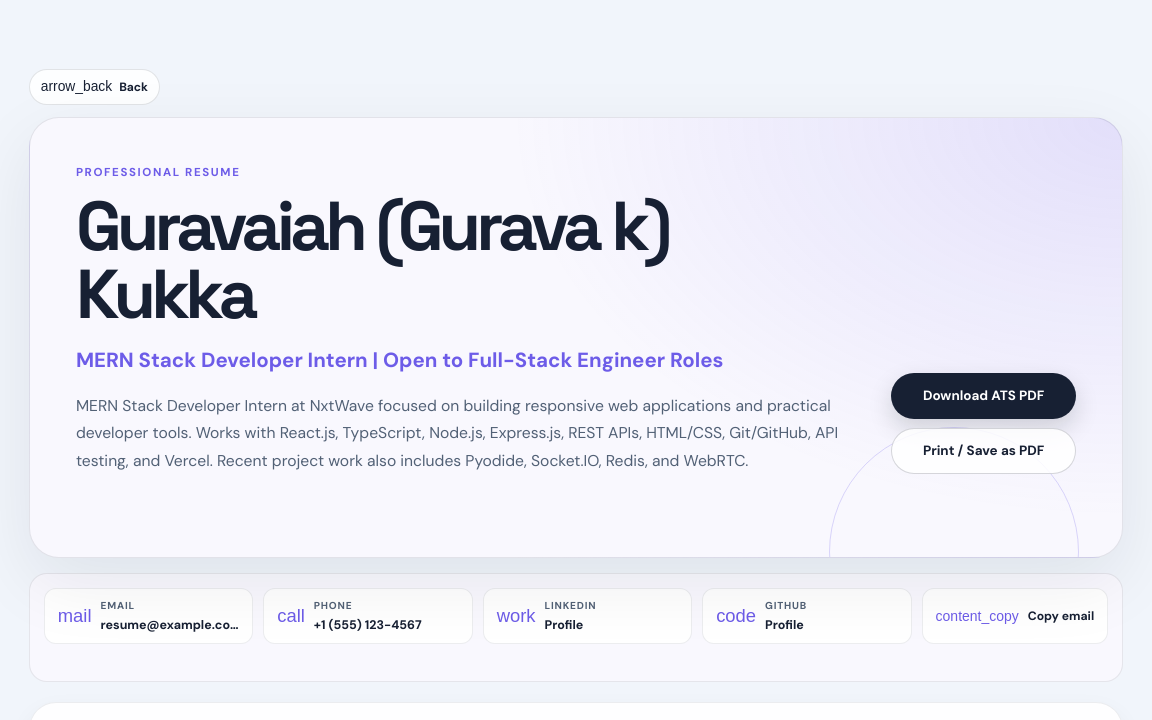
Test: ResumePage › offers a direct PDF download and hands it the same profile and certificate data
The image size is (1152, 720).
Click the button "Download ATS PDF" at (984, 396), box [891,373,1076,419]
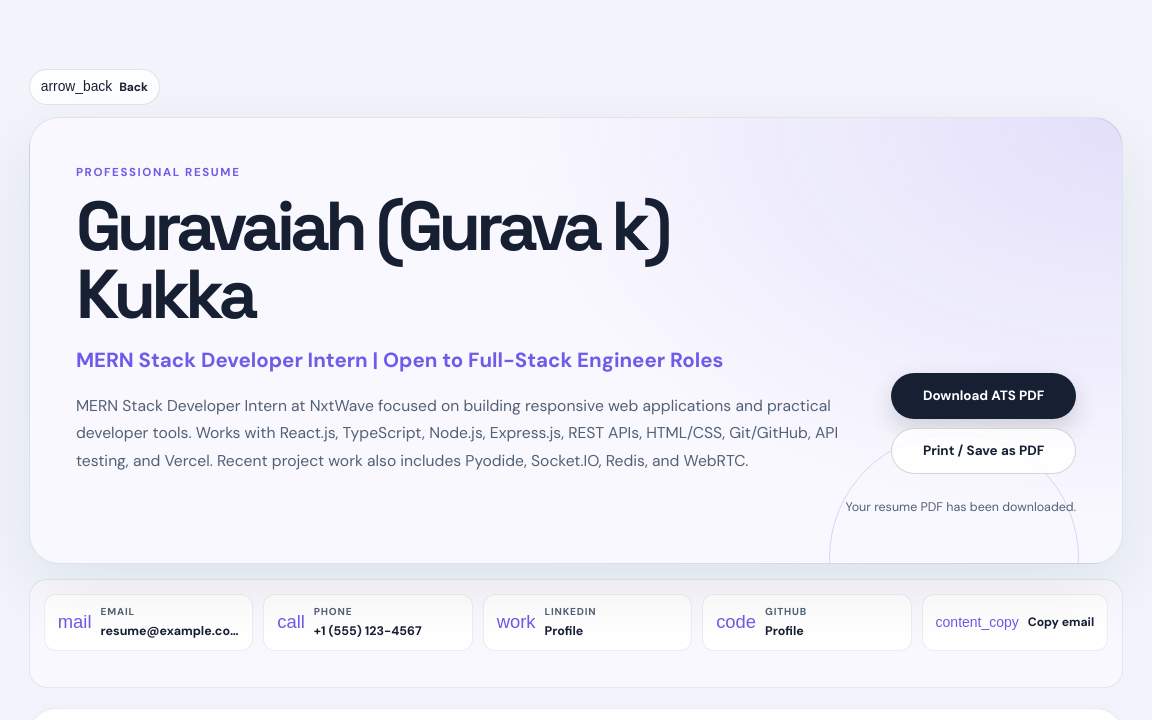
Expected: the text "Your resume PDF has been downloaded." is shown, [846,499,1076,515]
